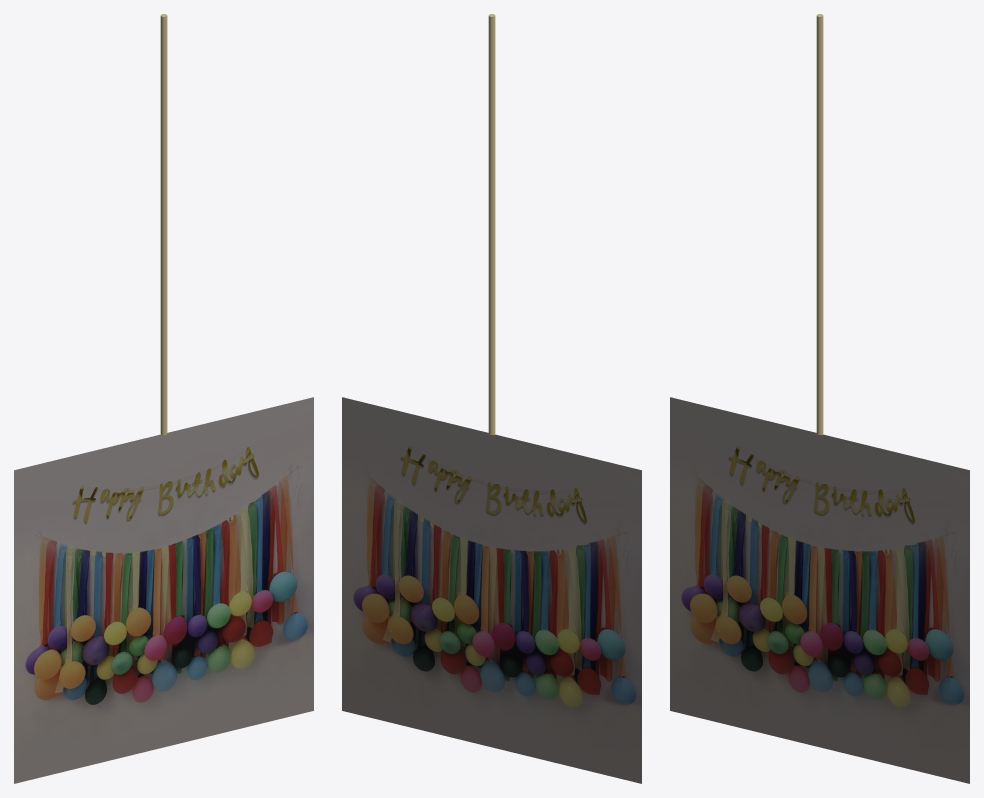
Rendered from B0D5YRW9N8.glb.
The picture shows the model from 3 angles, left to right: view 1: azimuth 30°, elevation 25°; view 2: azimuth 150°, elevation 25°; view 3: azimuth 330°, elevation 25°; orthographic projection.
Visible parts, largest first — view 1: photo, string; view 2: photo, string; view 3: photo, string.
Boxes of the visible parts, bbox=[...] form: photo: bbox=[14, 397, 313, 783]; string: bbox=[160, 14, 167, 435]; photo: bbox=[342, 397, 641, 783]; string: bbox=[488, 14, 495, 435]; photo: bbox=[670, 397, 969, 783]; string: bbox=[816, 14, 823, 435].
Bounding box in the file's own units: 0.3 × 0.7 × 0.006.
1 material, 1 textured.
